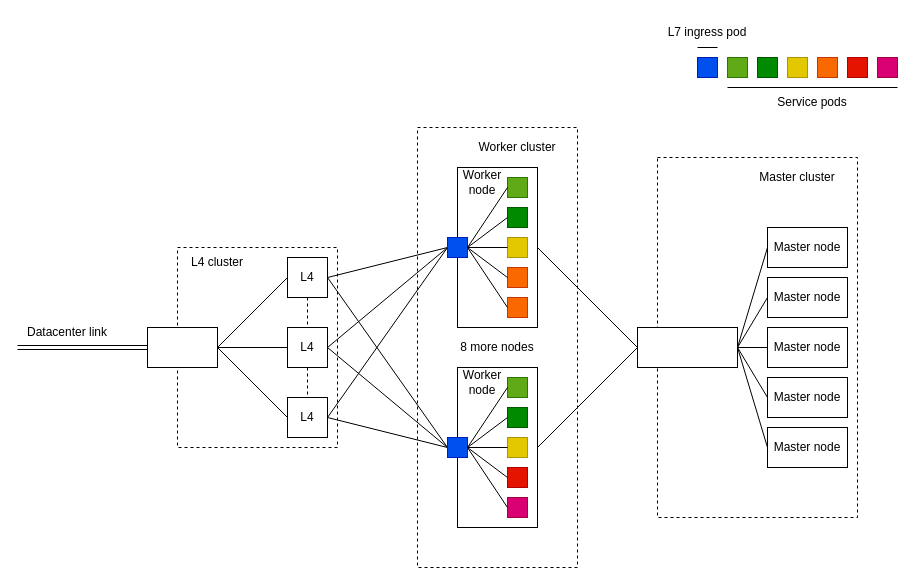
The diagram is 916 pixels wide and 585 high, and some of its shapes have lost their labels. The box of each missing label's shape, as (x1, y1, x2, y2) in pixels:
Floating IP: (146, 326, 218, 368)
Load balancer: (636, 326, 738, 368)
